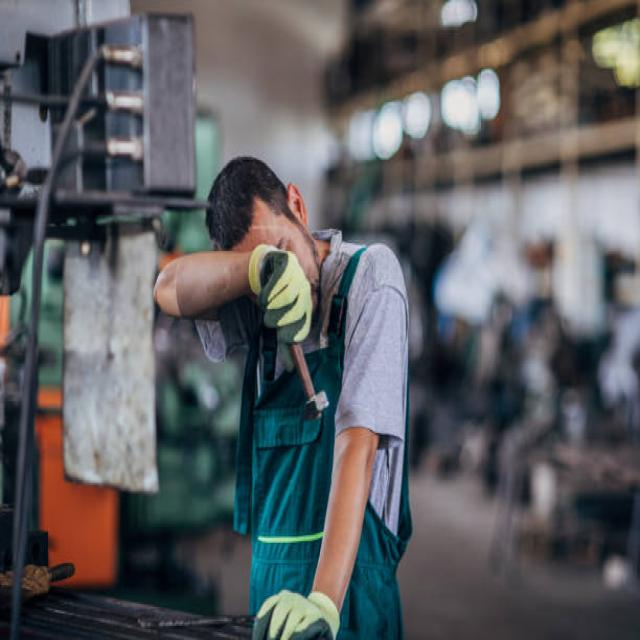gloves: (251, 245, 312, 342), (254, 590, 339, 640)
